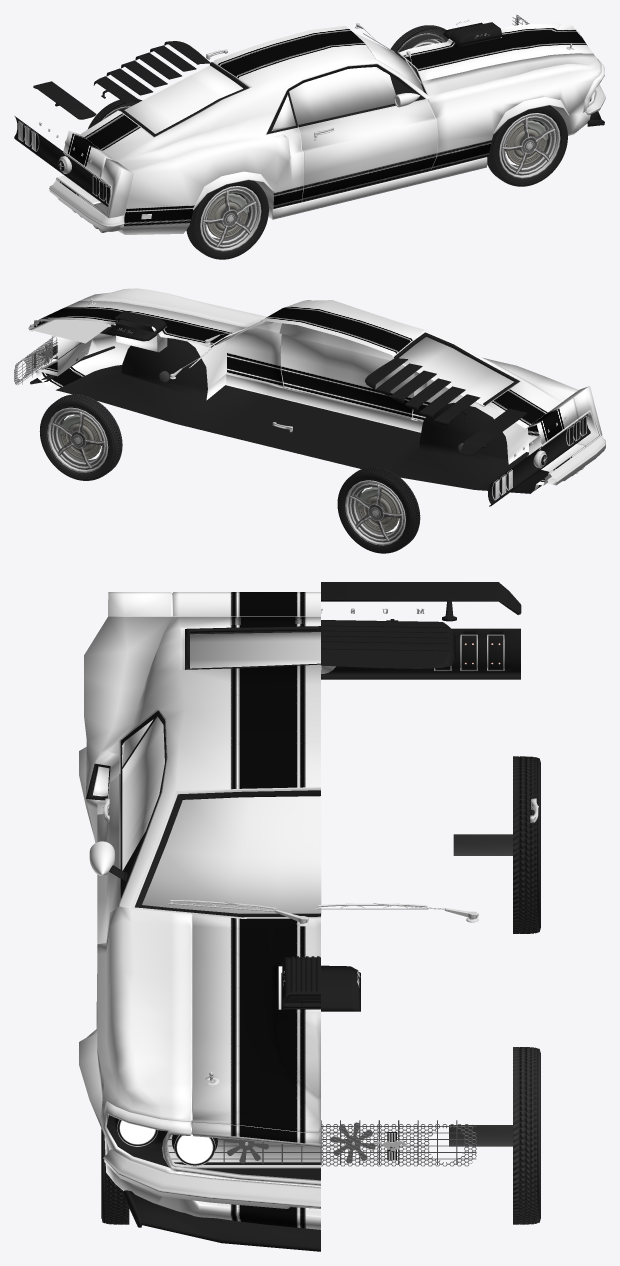
File: Car3.glb
3 renders of one model, top to bottom at view 1: azimuth 30°, elevation 25°; view 2: azimuth 150°, elevation 25°; view 3: azimuth 270°, elevation 25°, orthographic. The views are drawn at different scales.
Visible parts, largest first — view 1: M_Body, M_SideWindows1, M_BackWindow, M_BackWindowFlaps, M_WheelFRTire, M_BackPanel, M_WheelBRTire, M_WheelBRRim, M_WheelFRRim, M_BackBumper, M_WheelFRBrakePad, M_WheelBRBrakepad (+9 smaller); view 2: M_Body, M_BackWindow, M_BackWindowFlaps, M_WheelBLTire, M_WheelFLTire, M_BackPanel, M_WheelFLRim, M_WheelBLRim, M_Spoiler1, M_BackBumper, M_WheelFLBrakePad, M_WheelBLBrakePad (+4 smaller); view 3: M_Body, M_Windshield, M_BackWindowFlaps, M_FrontBumper, M_BackPanel, M_WheelFLTire, M_WheelBLTire, M_FrontTrim, M_BackWindow, M_Spoiler1, M_SideWindows1, M_FrontGrill (+10 smaller).
Part boxes in pixels (<box>): M_Body: <box>56,23,604,234</box>; M_SideWindows1: <box>289,67,395,124</box>; M_BackWindow: <box>124,65,242,133</box>; M_BackWindowFlaps: <box>93,41,210,103</box>; M_WheelFRTire: <box>487,105,567,186</box>; M_BackPanel: <box>14,116,110,206</box>; M_WheelBRTire: <box>186,180,268,259</box>; M_WheelBRRim: <box>200,186,261,251</box>; M_WheelFRRim: <box>499,113,560,178</box>; M_BackBumper: <box>49,180,124,231</box>; M_WheelFRBrakePad: <box>506,120,548,165</box>; M_WheelBRBrakepad: <box>207,193,249,238</box>; M_Body: <box>28,288,602,493</box>; M_BackWindow: <box>399,337,513,406</box>; M_BackWindowFlaps: <box>365,358,480,426</box>; M_WheelBLTire: <box>337,467,420,553</box>; M_WheelFLTire: <box>39,394,122,480</box>; M_BackPanel: <box>488,414,590,506</box>; M_WheelFLRim: <box>47,407,108,472</box>; M_WheelBLRim: <box>345,480,405,545</box>; M_Spoiler1: <box>460,408,526,455</box>; M_BackBumper: <box>547,436,605,485</box>; M_WheelFLBrakePad: <box>59,415,101,459</box>; M_WheelBLBrakePad: <box>357,487,399,532</box>; M_Body: <box>84,592,320,1229</box>; M_Windshield: <box>142,795,321,914</box>; M_BackWindowFlaps: <box>321,620,455,668</box>; M_FrontBumper: <box>103,1149,320,1208</box>; M_BackPanel: <box>321,628,520,679</box>; M_WheelFLTire: <box>513,1047,540,1224</box>; M_WheelBLTire: <box>513,756,540,933</box>; M_FrontTrim: <box>123,1190,320,1251</box>; M_BackWindow: <box>190,632,321,670</box>; M_Spoiler1: <box>321,582,521,614</box>; M_SideWindows1: <box>122,716,164,870</box>; M_FrontGrill: <box>321,1124,476,1166</box>.
Bounding box in the file's own units: 7.09 × 1.99 × 2.67.
26 materials, 1 textured.
